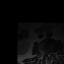CCS_normal: (48, 51, 49, 59)
LFS_severe_stenosis: (51, 51, 53, 56)
LLS_stenosis: (50, 51, 51, 56)
RFS_severe_stenosis: (44, 50, 46, 55)
RLS_stenosis: (46, 51, 48, 56)
